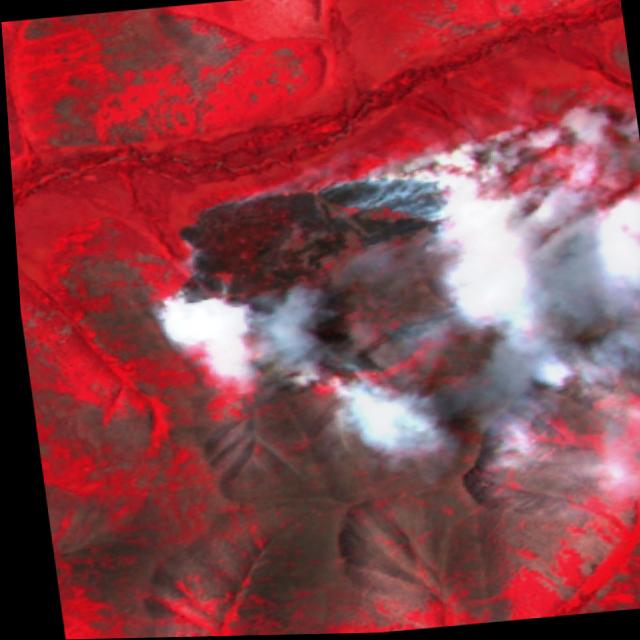fire: (171, 155, 500, 255), (148, 276, 331, 393)
